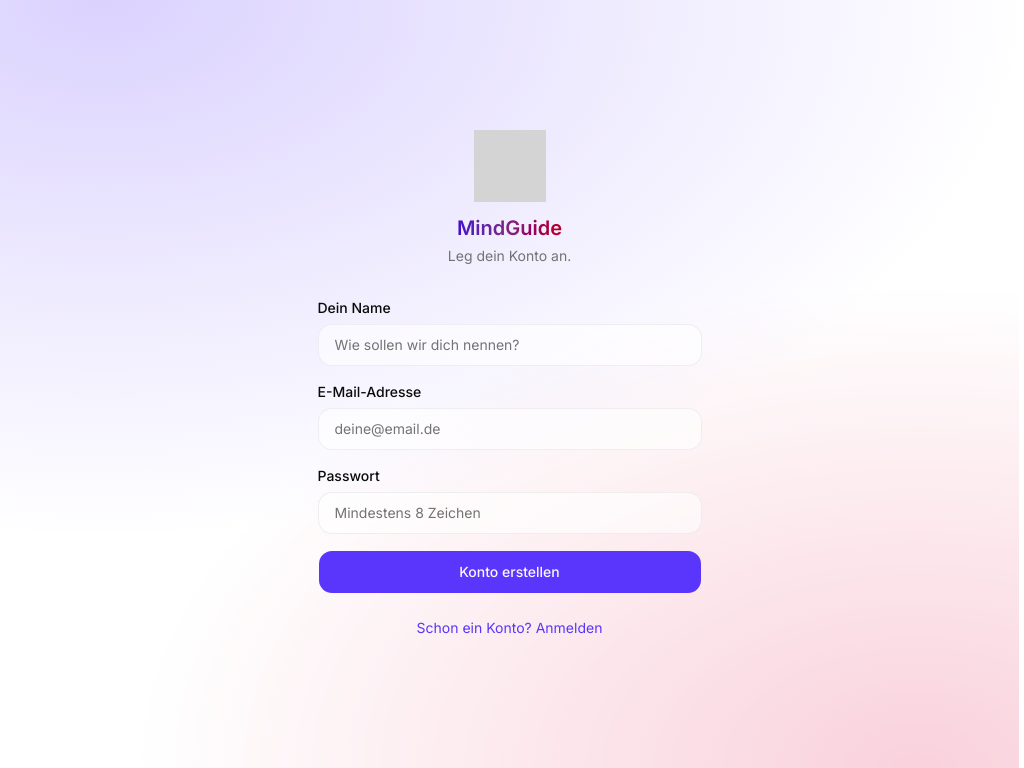
Test: AuthForm — register mode › shows email taken error when address already exists
Step 1. Type "Test" into the field labelled "Dein Name" → (510, 345), box [318,324,702,366]
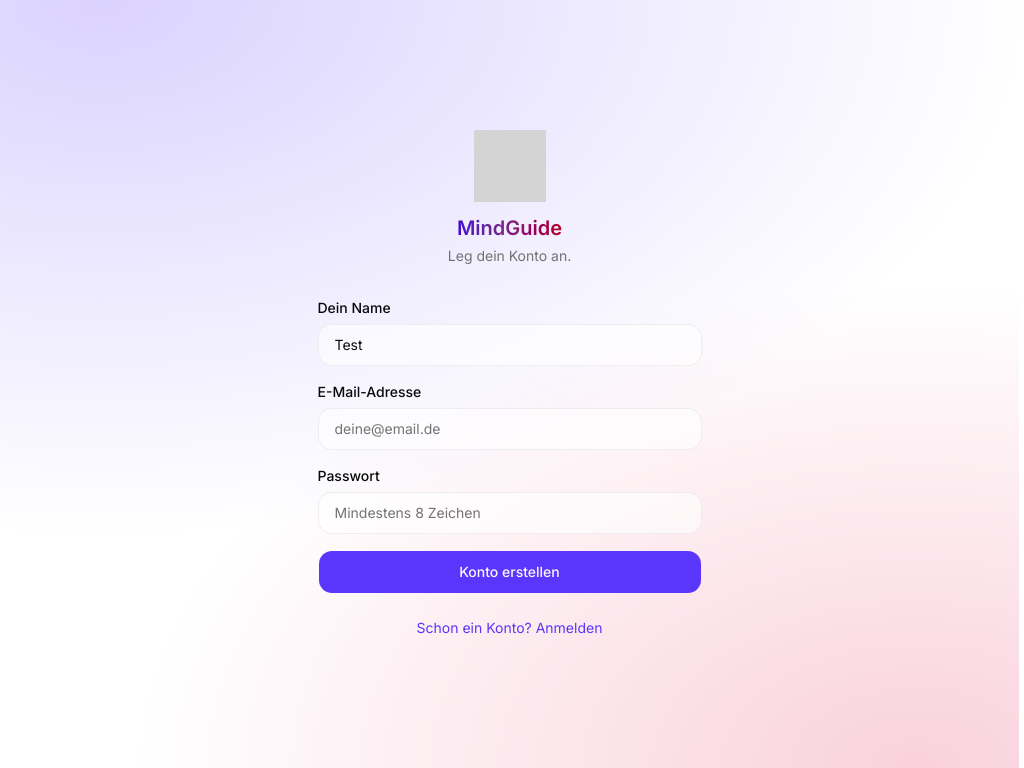
Step 2. Type "taken@example.com" into the field labelled "E-Mail-Adresse" → (510, 429), box [318,408,702,450]
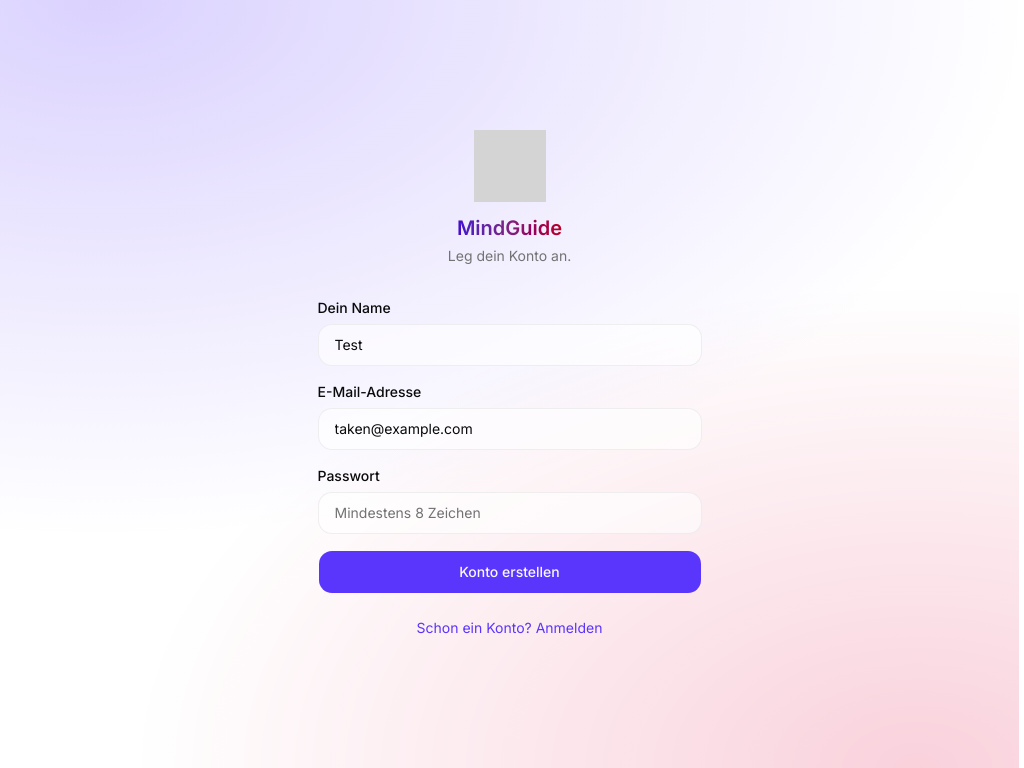
Step 3. Type "password1" into the password field labelled "Passwort" → (510, 513), box [318,492,702,534]
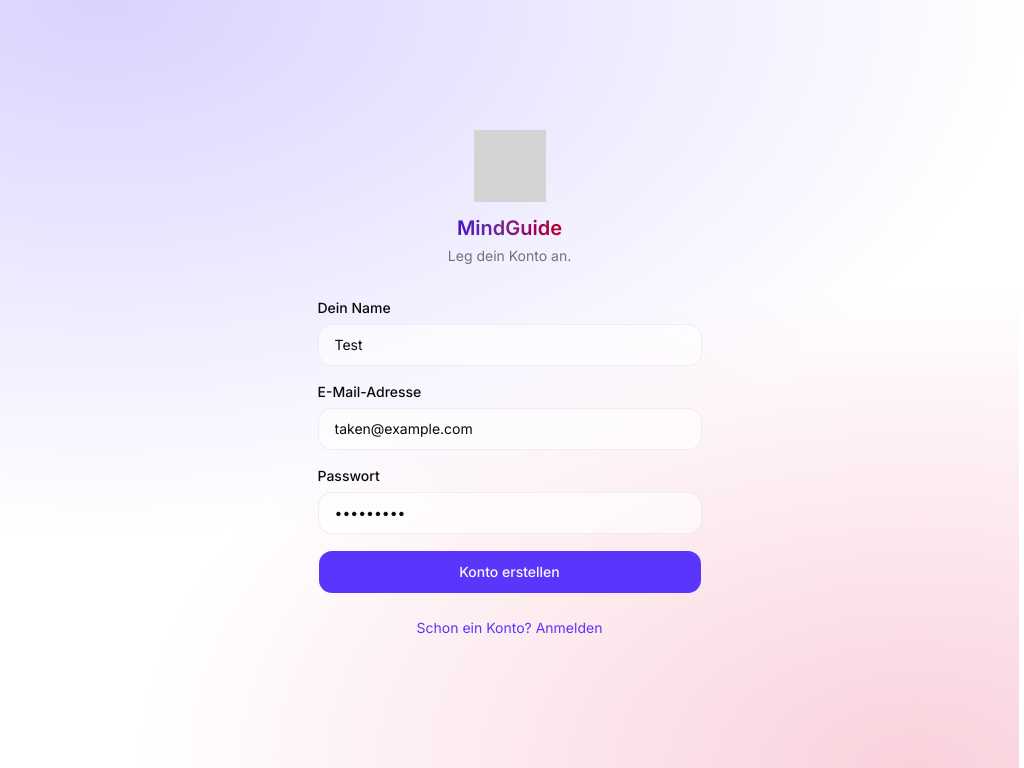
Step 4. Click the button "Konto erstellen" → (510, 572), box [318,550,702,594]
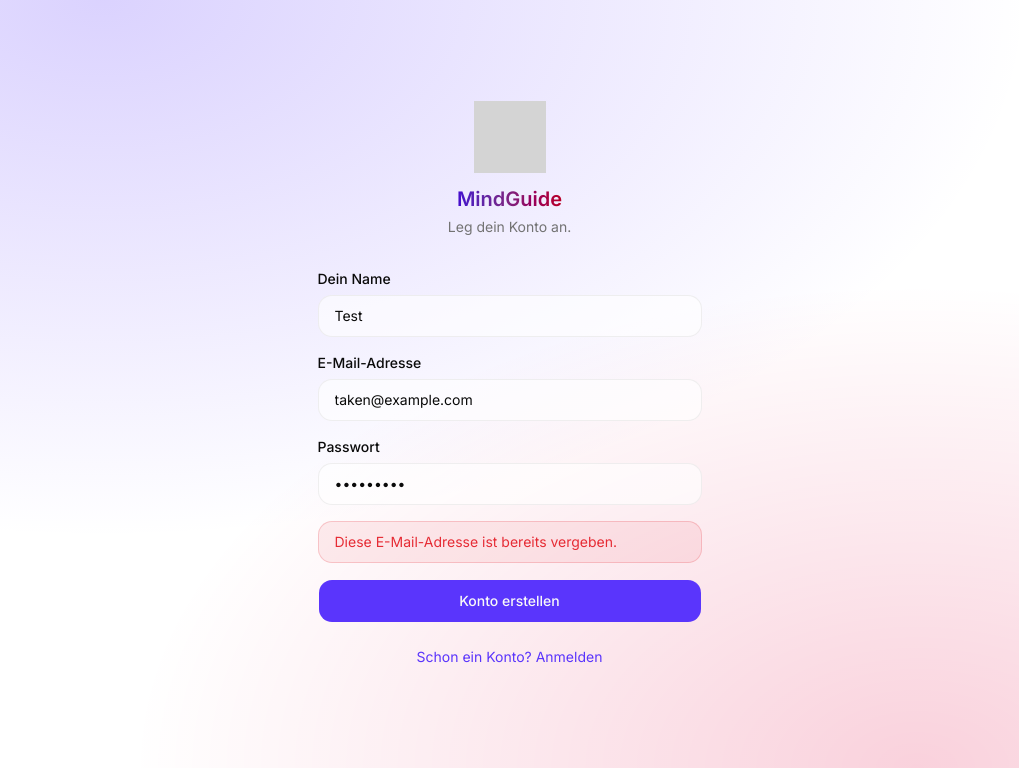
Expected: the text "Diese E-Mail-Adresse ist bereits vergeben." is shown, [318,521,702,563]
